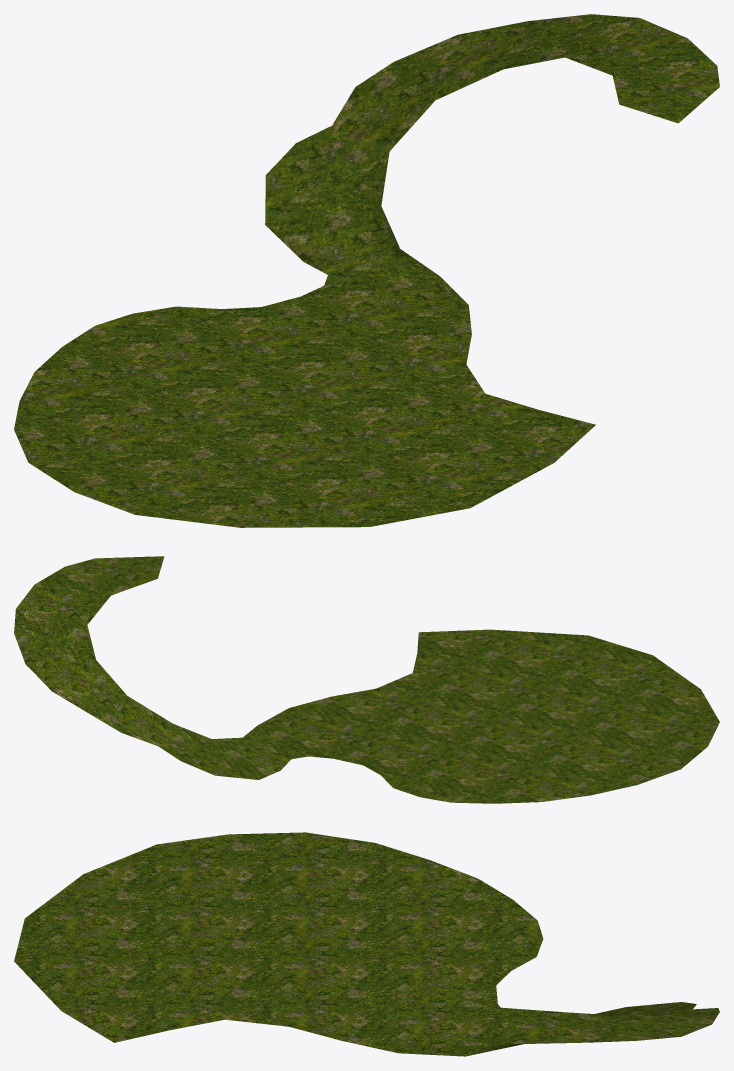
The model's file is OVERHILL_A_01_LINE135.fbx.
3 renders of one model, top to bottom at view 1: azimuth 30°, elevation 25°; view 2: azimuth 150°, elevation 25°; view 3: azimuth 270°, elevation 25°, orthographic. The views are drawn at different scales.
Parts seen in each view (by area): view 1: OVERHILL_A_01_LINE135; view 2: OVERHILL_A_01_LINE135; view 3: OVERHILL_A_01_LINE135.
Boxes of the visible parts, left/top/right/bottom form: OVERHILL_A_01_LINE135: left=14, top=14, right=719, bottom=527; OVERHILL_A_01_LINE135: left=14, top=556, right=719, bottom=803; OVERHILL_A_01_LINE135: left=14, top=832, right=719, bottom=1056.
Bounding box in the file's own units: 143842 × 26883 × 122197.
Materials: 1 (1 with a texture image).
